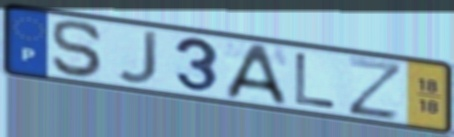3: (169, 36, 225, 96)
A: (222, 43, 291, 107)
J: (114, 29, 161, 86)
L: (292, 50, 339, 111)
S: (49, 18, 107, 80)
Z: (346, 55, 406, 123)
